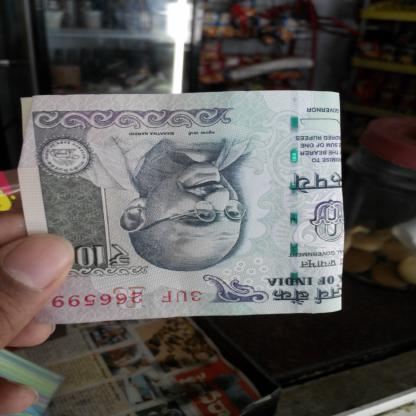Old100Front: (17, 89, 343, 324)
